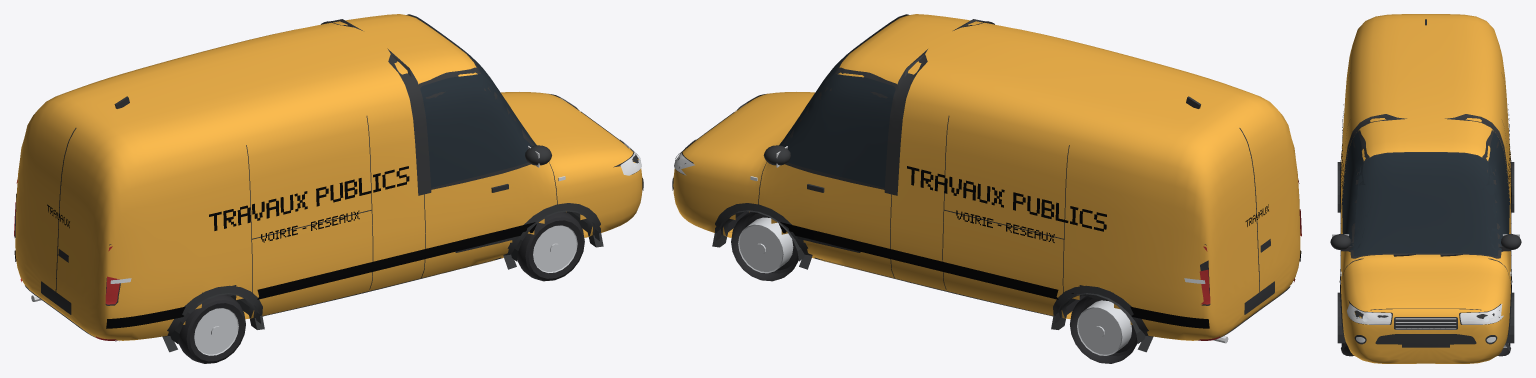
File: pro_btp.glb
3 renders of one model, left to right at view 1: azimuth 30°, elevation 25°; view 2: azimuth 150°, elevation 25°; view 3: azimuth 270°, elevation 25°, orthographic. The views are drawn at different scales.
Visible parts, largest first — view 1: Body, Glass-1, ProStripe-1, WheelRR, WheelFR, Bpillar-1, ArchTrim-1.001, ArchTrim-1, WinFrame-1, ArchLiner.003; view 2: Body, Glass1, ProStripe1, WheelFL, WheelRL, Bpillar1, ArchTrim1.001, ArchTrim1, WinFrame1, ArchLiner.002; view 3: Body, Windshield, Glass1, Glass-1, Intake, HeadReflector, Grille, WsFrame, Bpillar1, Bpillar-1, HeadBezel, Mirror1 (+7 smaller).
Boxes of the visible parts, box(x1,y1,x2,y2) form: Body: box(15, 14, 642, 340); Glass-1: box(420, 74, 536, 187); ProStripe-1: box(106, 222, 536, 328); WheelRR: box(178, 294, 245, 363); WheelFR: box(517, 212, 584, 281); Bpillar-1: box(387, 48, 431, 195); ArchTrim-1.001: box(162, 285, 264, 352); ArchTrim-1: box(503, 203, 603, 269); WinFrame-1: box(418, 67, 532, 189); ArchLiner.003: box(170, 292, 260, 343); Body: box(673, 14, 1300, 340); Glass1: box(779, 74, 895, 187); ProStripe1: box(779, 222, 1209, 328); WheelFL: box(731, 212, 798, 281); WheelRL: box(1070, 294, 1137, 363); Bpillar1: box(884, 49, 927, 195); ArchTrim1.001: box(1051, 285, 1153, 352); ArchTrim1: box(712, 203, 812, 269); WinFrame1: box(785, 67, 897, 189); ArchLiner.002: box(1054, 292, 1145, 343); Body: box(1341, 14, 1510, 363); Windshield: box(1353, 152, 1498, 256); Glass1: box(1477, 132, 1509, 250); Glass-1: box(1342, 132, 1371, 250); Intake: box(1375, 334, 1476, 344); HeadReflector: box(1347, 304, 1503, 324); Grille: box(1394, 317, 1457, 329); WsFrame: box(1350, 152, 1501, 258); Bpillar1: box(1445, 114, 1510, 208); Bpillar-1: box(1341, 114, 1406, 208); HeadBezel: box(1348, 300, 1500, 324); Mirror1: box(1501, 234, 1521, 249).
Bounding box in the file's own units: 5.62 × 2.34 × 2.15.
